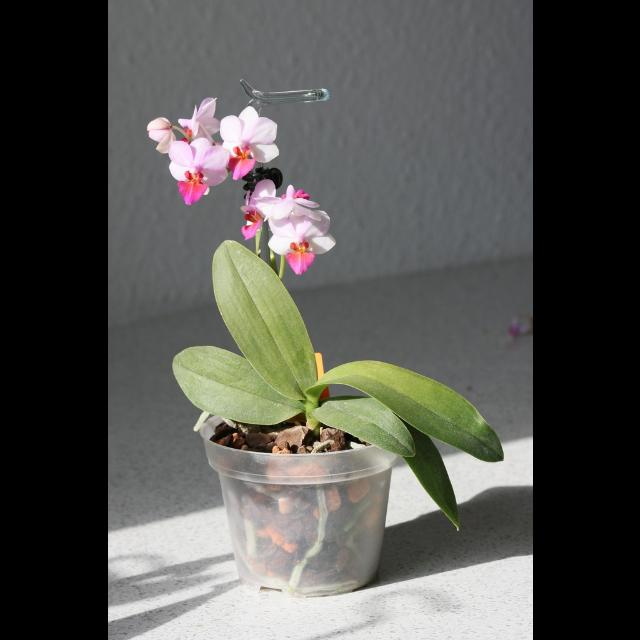Flower: (146, 90, 280, 210), (258, 182, 344, 278)
